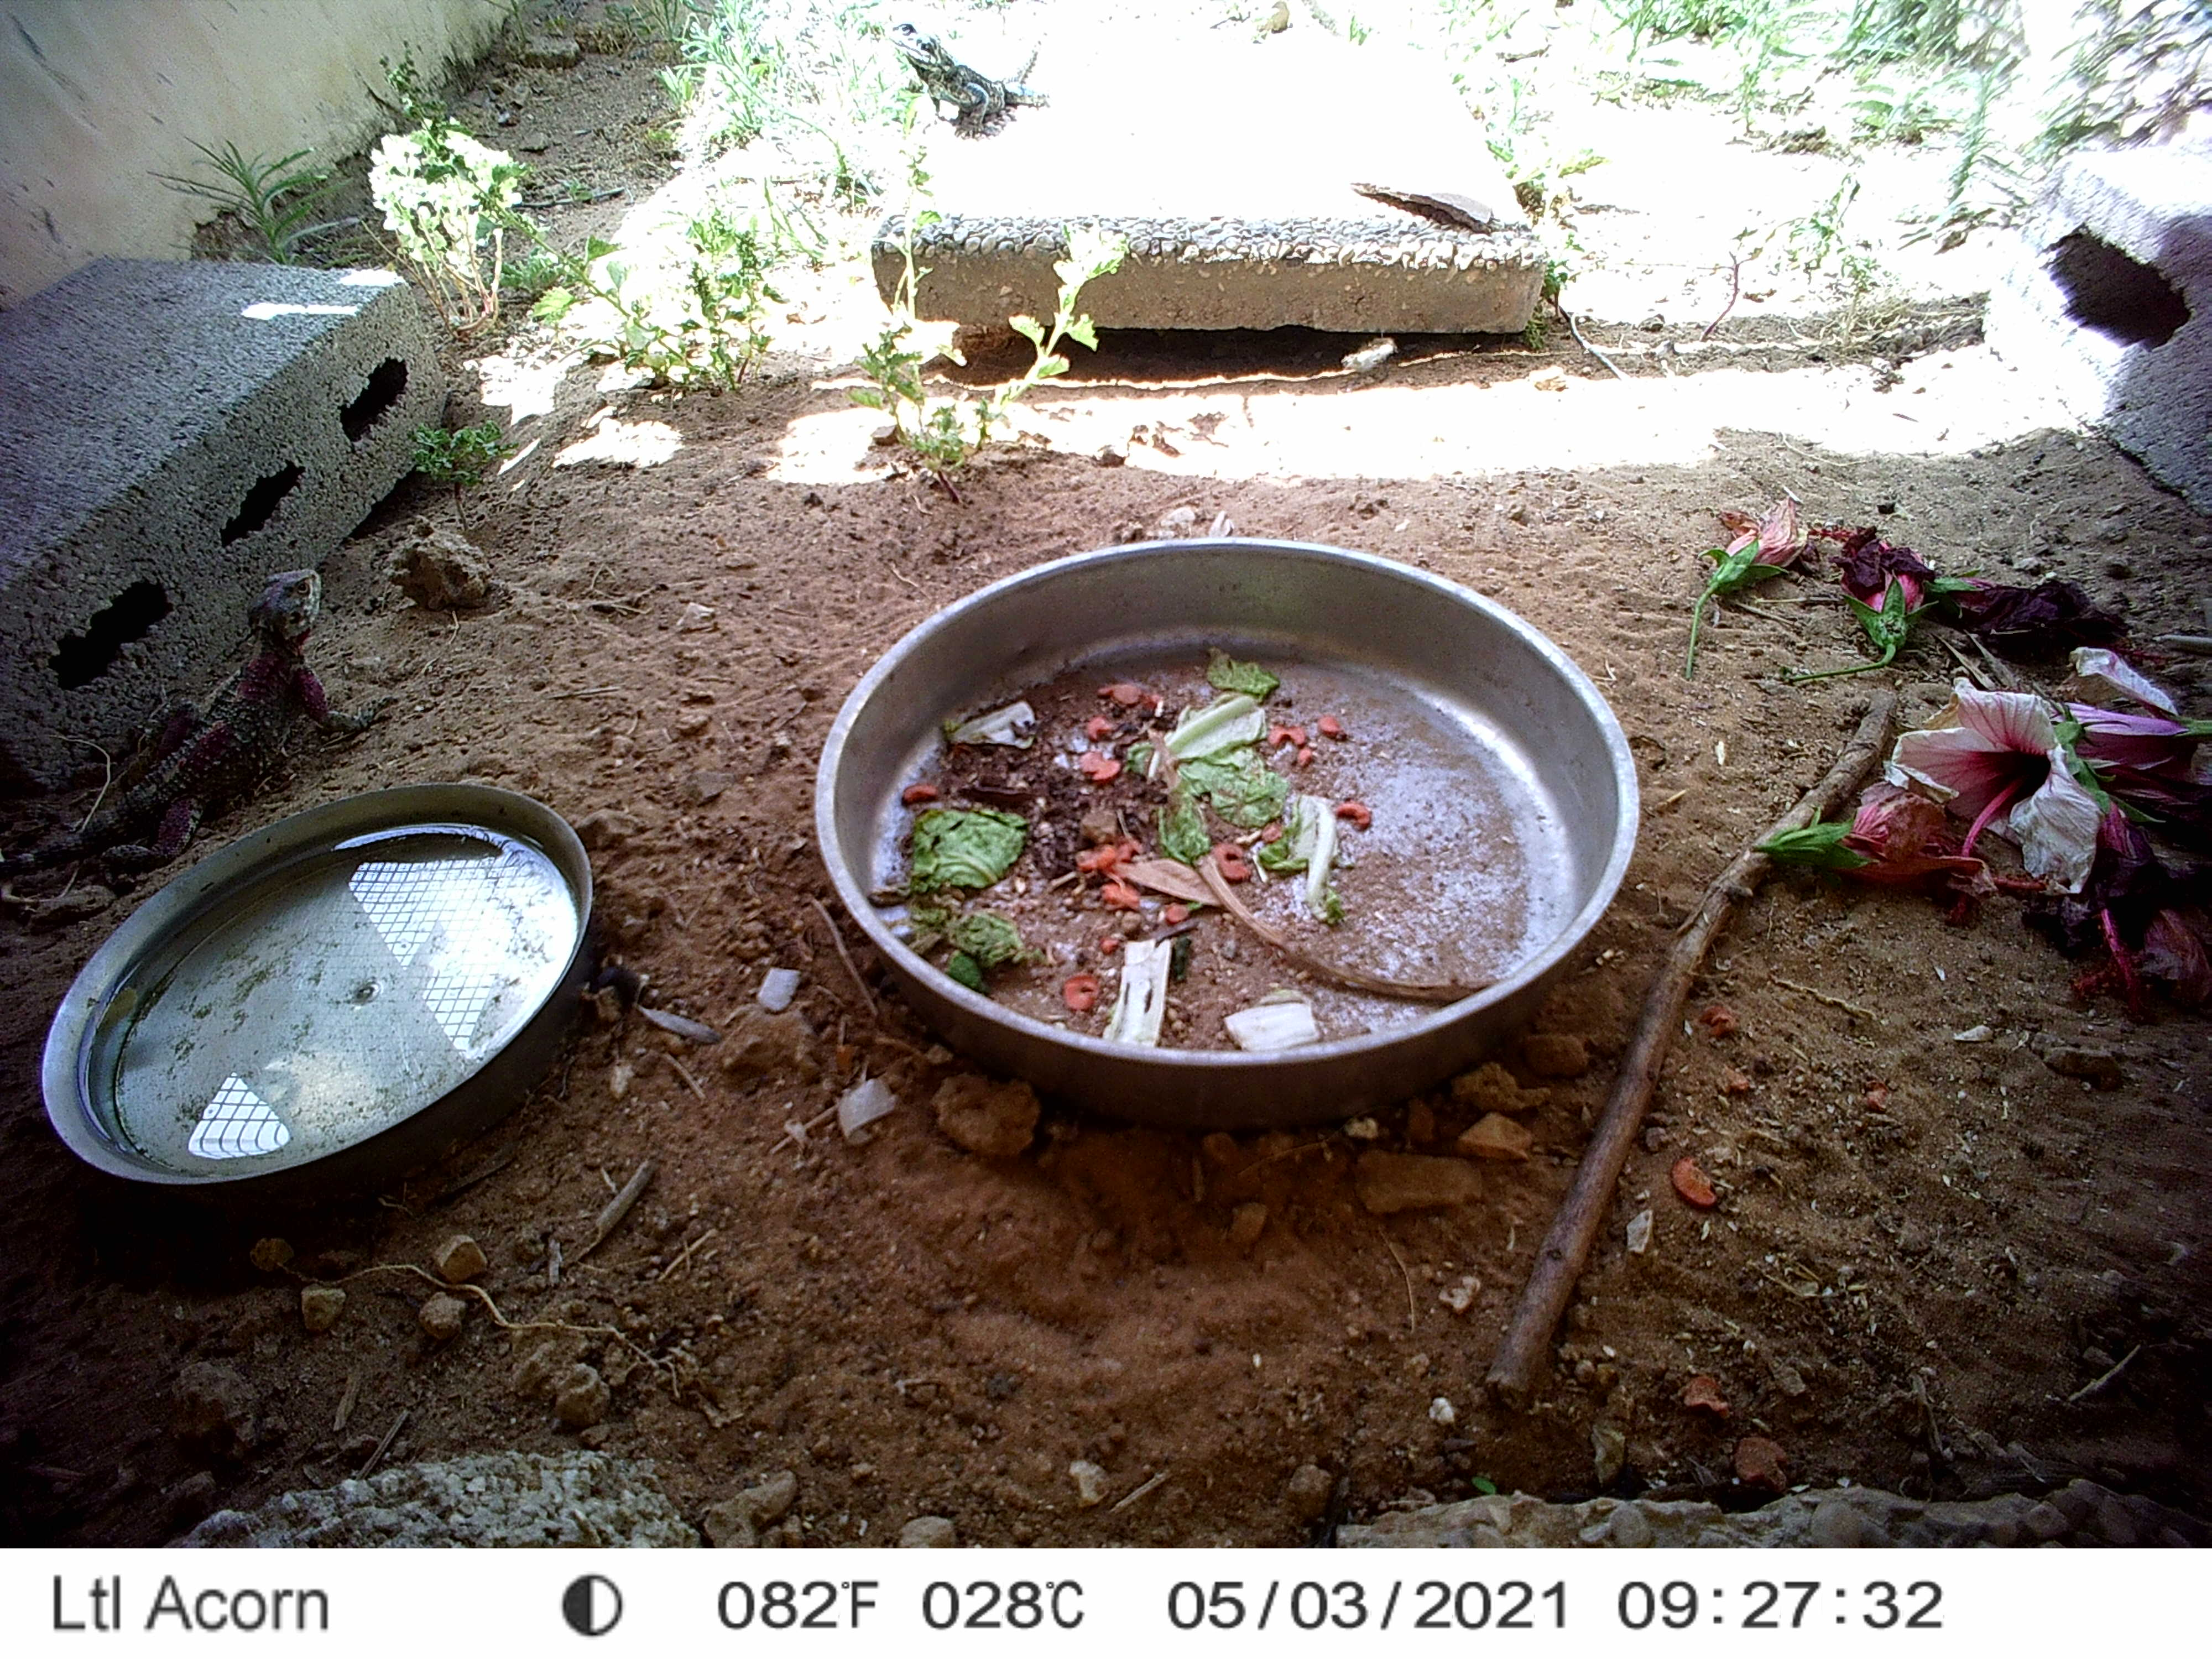lizard: (2, 570, 404, 901), (887, 12, 1061, 143)
